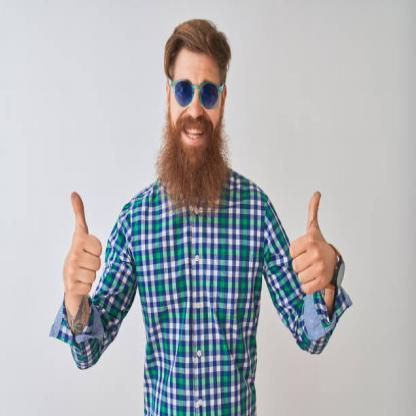thumb_up: (286, 186, 334, 295), (62, 187, 104, 302)
